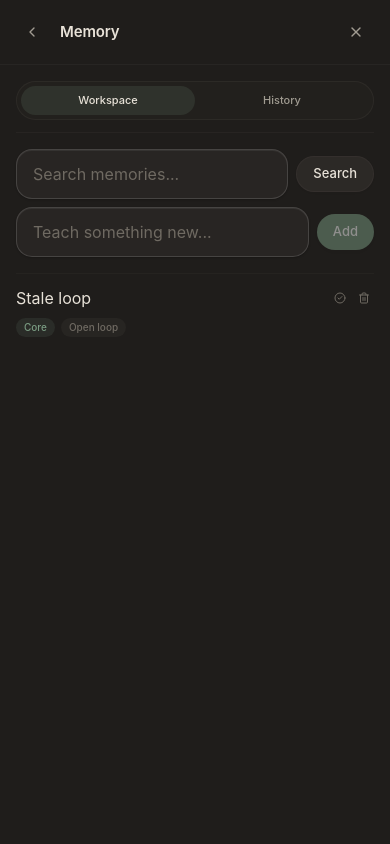
AssistantSettings Memory Center (ADR-074 M3.3) › close-button surfaces the API error inline (no more silent swallow) on 404/400/409
The image size is (390, 844).
Click the button named "Mark as closed".
click(340, 298)  # box [330,288,350,308]
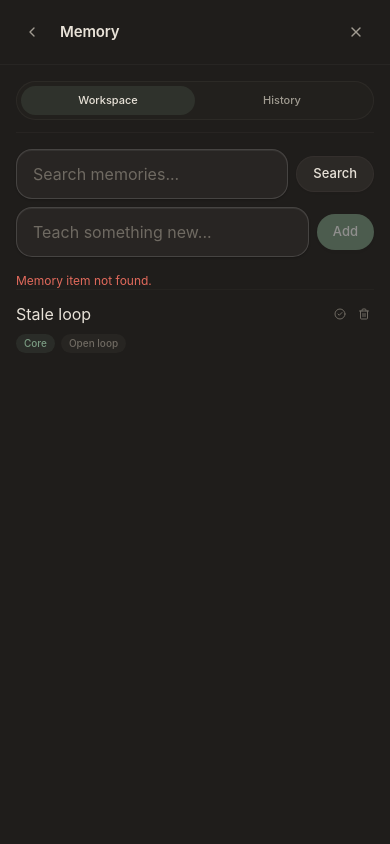
Expected: the text "Stale loop" is shown, [16,304,91,324]
Expected: the text "Memory item not found." is shown, [16,272,152,288]
